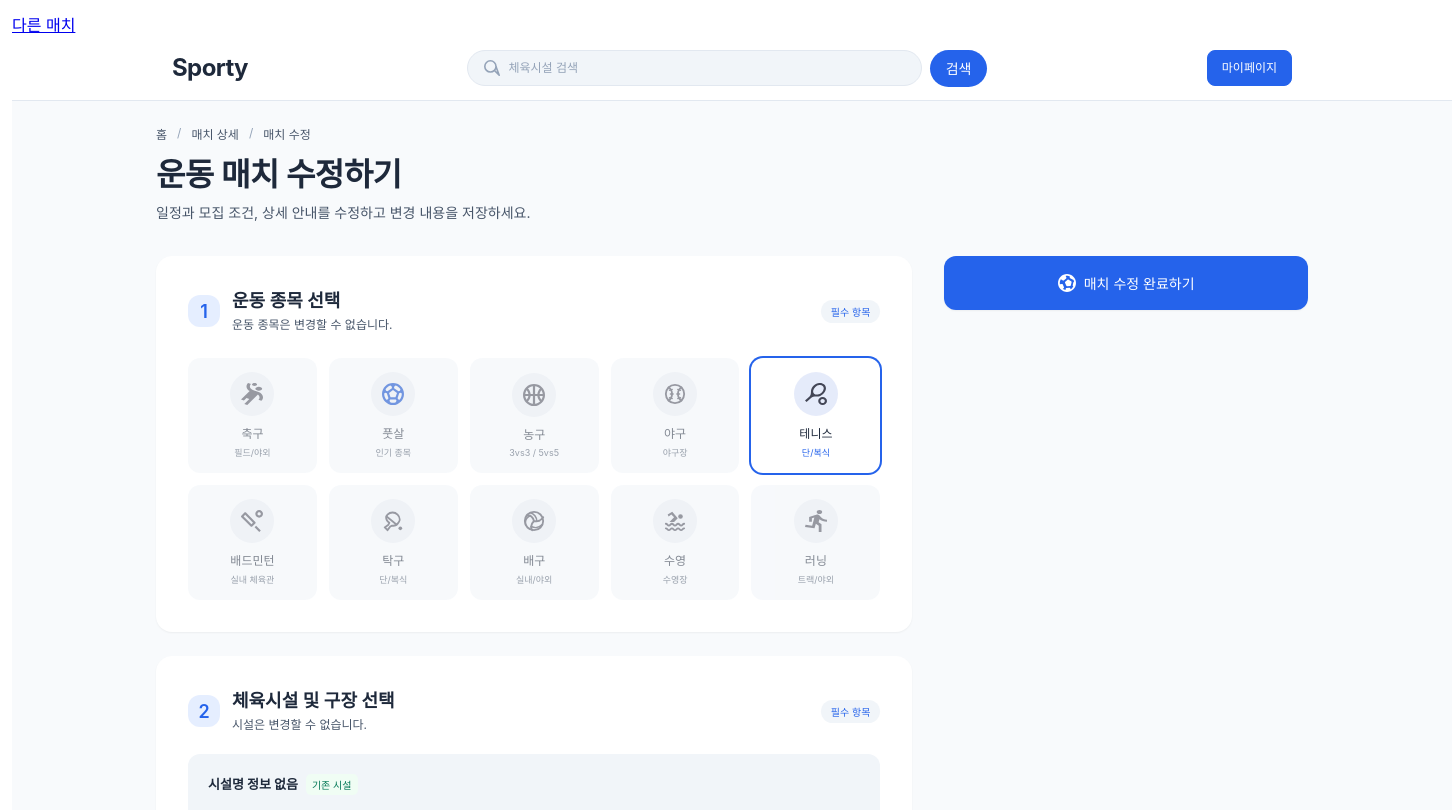
Test: redirects expired authentication on save
Click the button "매치 수정 완료하기" at (1126, 283), box [944,256,1308,310]
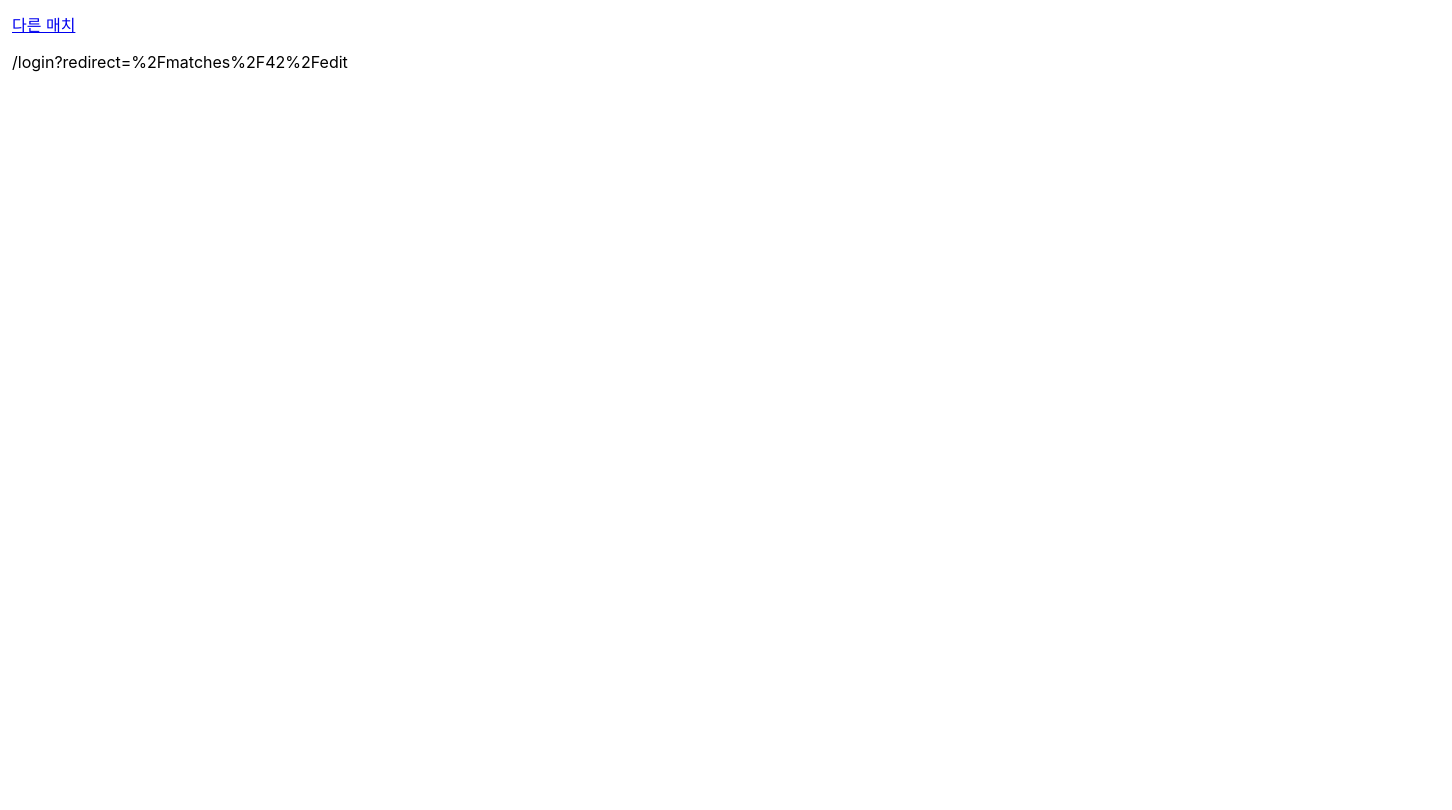
Expected: the text with test id "destination" reads "/login?redirect=%2Fmatches%2F42%2Fedit", [12,52,348,72]
